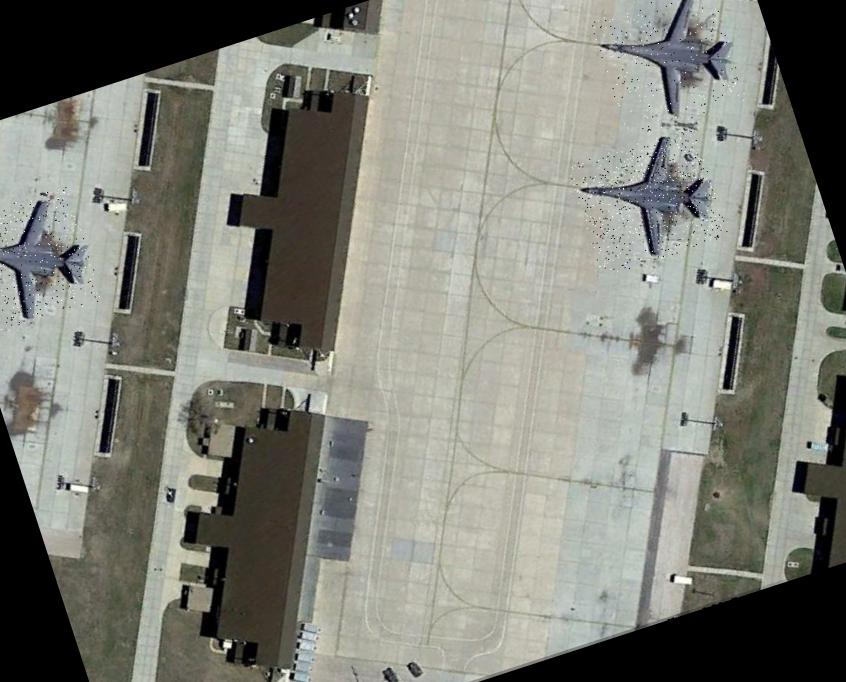A10: (566, 126, 729, 278), (589, 0, 747, 139), (0, 185, 103, 339)
